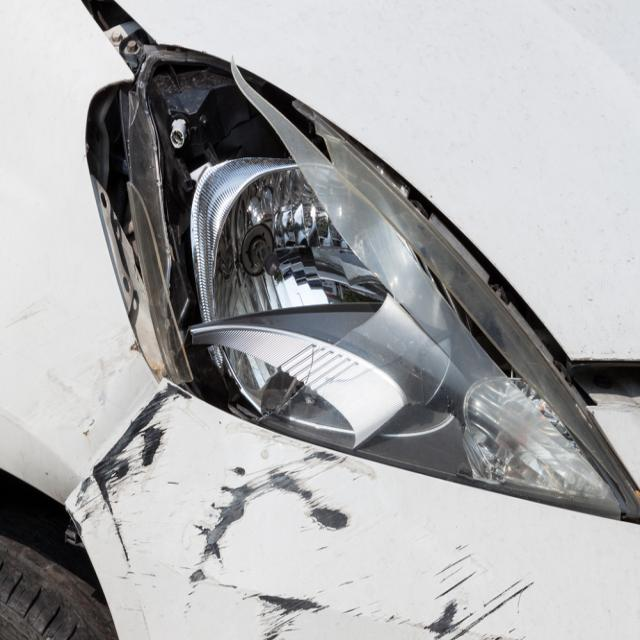lamp broken: (134, 48, 640, 526)
scratch: (66, 380, 536, 640)
